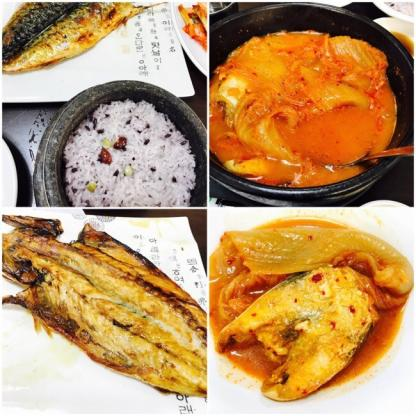Peixe: (0, 222, 226, 389), (0, 0, 156, 73)
